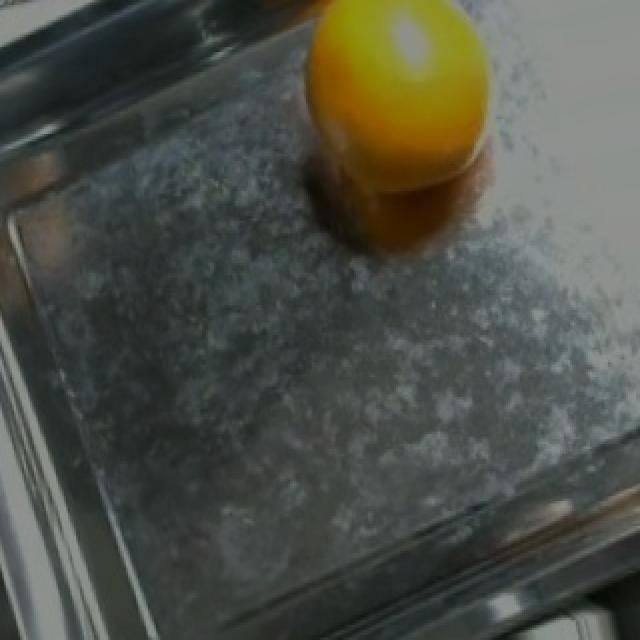Fruit: (268, 0, 524, 228)
